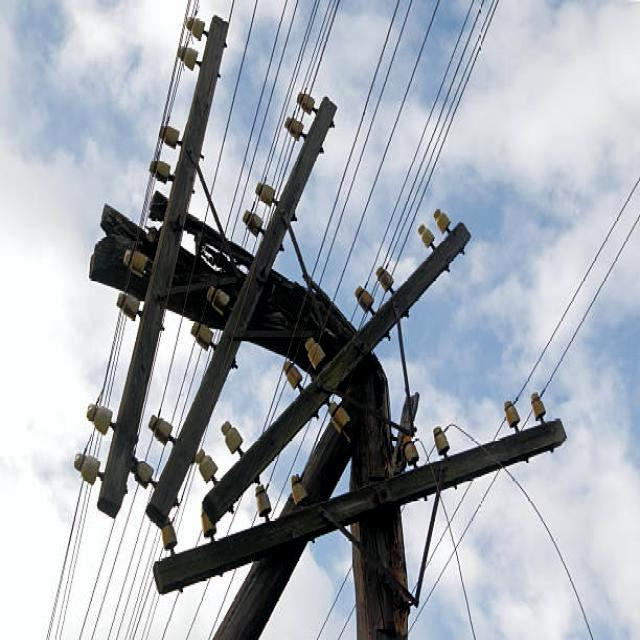Broken Pole: (51, 0, 614, 640)
